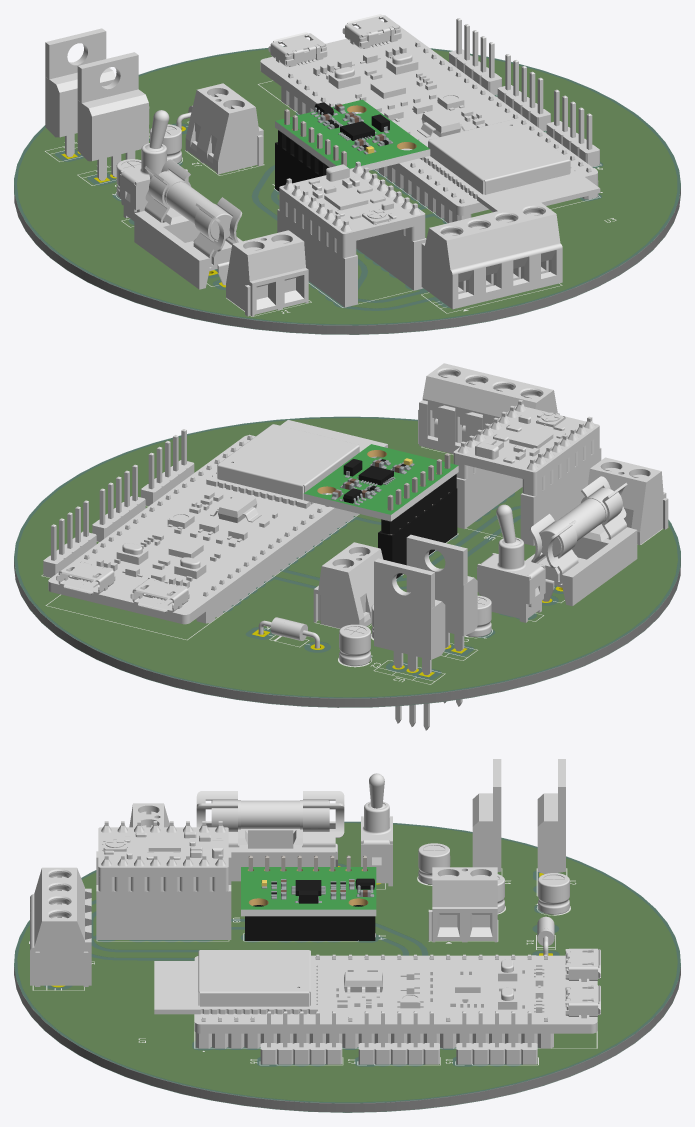
File: ROV2.glb
The picture shows the model from 3 angles, top to bottom: view 1: azimuth 30°, elevation 25°; view 2: azimuth 150°, elevation 25°; view 3: azimuth 270°, elevation 25°; orthographic projection.
Visible parts, largest first — view 1: =>[0:1:1:15], =>[0:1:1:13], U3, U8, J3, =>[0:1:1:17], F1, U1, J1, J2, Base:1, U2 (+8 smaller); view 2: =>[0:1:1:15], =>[0:1:1:13], U3, U8, =>[0:1:1:17], F1, J3, U2, Base:1, SW1, J2, U1 (+11 smaller); view 3: =>[0:1:1:15], =>[0:1:1:13], U3, U8, =>[0:1:1:17], F1, J3, Base:1, J2, SW1, U2, U5 (+9 smaller).
Boxes of the visible parts, <box> form: =>[0:1:1:15]: <box>14,46,680,325</box>; =>[0:1:1:13]: <box>17,50,676,323</box>; U3: <box>260,14,600,223</box>; U8: <box>277,161,426,307</box>; J3: <box>421,201,562,309</box>; =>[0:1:1:17]: <box>14,49,680,334</box>; F1: <box>134,159,242,289</box>; U1: <box>77,52,148,180</box>; J1: <box>226,230,308,316</box>; J2: <box>185,83,263,174</box>; Base:1: <box>275,99,430,170</box>; U2: <box>45,28,115,156</box>; =>[0:1:1:15]: <box>14,416,680,698</box>; =>[0:1:1:13]: <box>18,418,677,696</box>; U3: <box>48,420,387,624</box>; U8: <box>453,400,601,545</box>; =>[0:1:1:17]: <box>14,417,680,707</box>; F1: <box>526,476,637,606</box>; J3: <box>418,363,559,453</box>; U2: <box>374,558,445,730</box>; Base:1: <box>303,444,458,521</box>; SW1: <box>477,504,545,622</box>; J2: <box>313,542,383,628</box>; U1: <box>406,534,477,706</box>; =>[0:1:1:15]: <box>14,821,680,1103</box>; =>[0:1:1:13]: <box>18,823,676,1101</box>; U3: <box>154,948,600,1048</box>; U8: <box>96,821,231,939</box>; =>[0:1:1:17]: <box>14,822,680,1112</box>; F1: <box>196,791,344,881</box>; J3: <box>30,867,91,986</box>; Base:1: <box>241,867,376,916</box>; J2: <box>428,867,497,942</box>; SW1: <box>361,773,392,886</box>; U2: <box>537,759,565,874</box>; U5: <box>456,1011,537,1064</box>.
Size of the model in its own units: 0.1039 by 0.0285 by 0.104.
